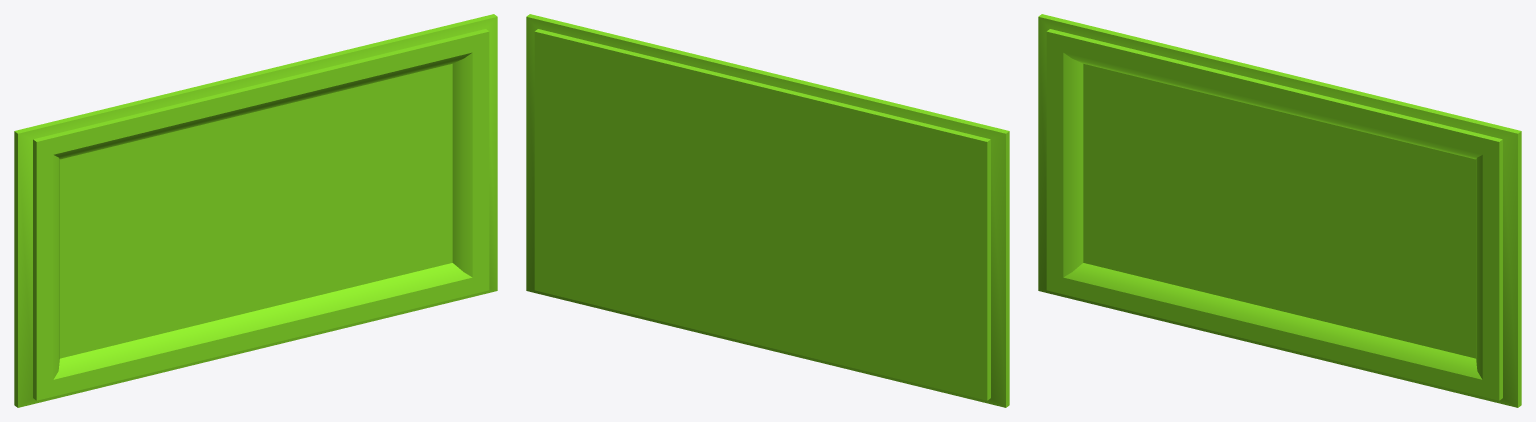
File: SM_Frame_A.fbx
3 renders of one model, left to right at view 1: azimuth 30°, elevation 25°; view 2: azimuth 150°, elevation 25°; view 3: azimuth 330°, elevation 25°, orthographic.
Parts seen in each view (by area): view 1: SM_Frame_A; view 2: SM_Frame_A; view 3: SM_Frame_A.
Part boxes in pixels (box(x1,y1,x2,y2)): SM_Frame_A: box(14, 14, 497, 407); SM_Frame_A: box(526, 14, 1009, 407); SM_Frame_A: box(1038, 14, 1521, 407).
Bounding box in the file's own units: 251 × 137 × 12.81.
